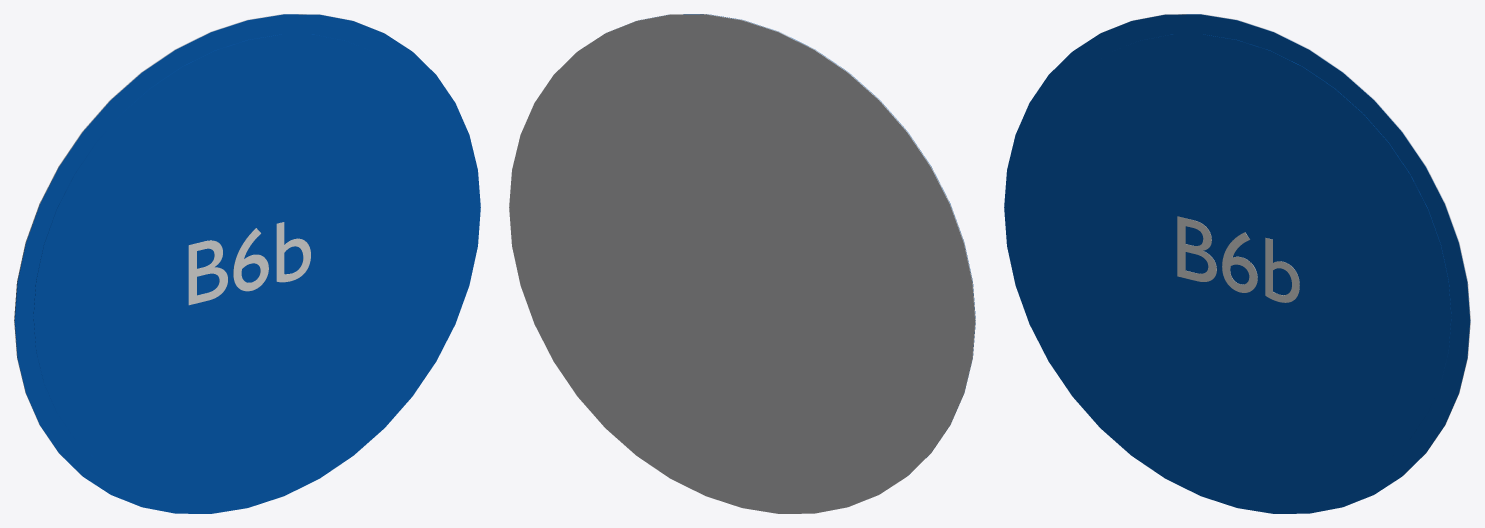
The picture shows the model from 3 angles, left to right: view 1: azimuth 30°, elevation 25°; view 2: azimuth 150°, elevation 25°; view 3: azimuth 330°, elevation 25°; orthographic projection.
Visible parts, largest first — view 1: B6b_int01, B6b_ext00, B6b_txt02, B6b_dos; view 2: B6b_dos; view 3: B6b_int01, B6b_ext00, B6b_txt02, B6b_dos.
Part boxes in pixels (left/top/right/bottom): B6b_int01: left=33, top=34, right=462, bottom=493; B6b_ext00: left=14, top=14, right=480, bottom=513; B6b_txt02: left=188, top=222, right=310, bottom=305; B6b_dos: left=14, top=14, right=383, bottom=475; B6b_dos: left=509, top=14, right=975, bottom=513; B6b_int01: left=1022, top=34, right=1451, bottom=493; B6b_ext00: left=1004, top=14, right=1470, bottom=513; B6b_txt02: left=1177, top=216, right=1299, bottom=302; B6b_dos: left=1101, top=14, right=1470, bottom=475.
Bounding box in the file's own units: 0.65 × 0.65 × 0.0025.
